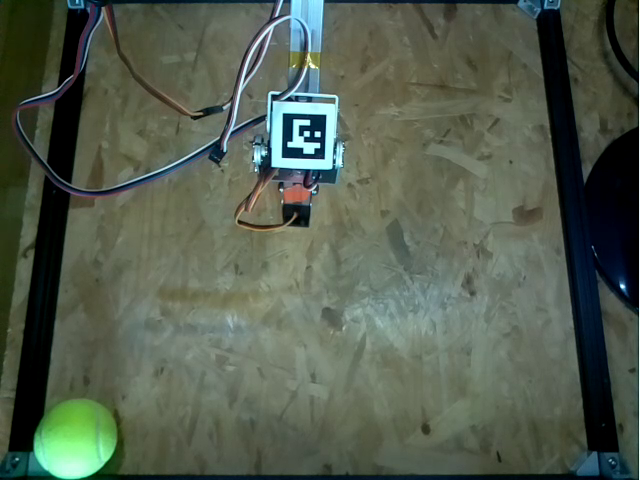tennis_ball: (31, 397, 117, 478)
